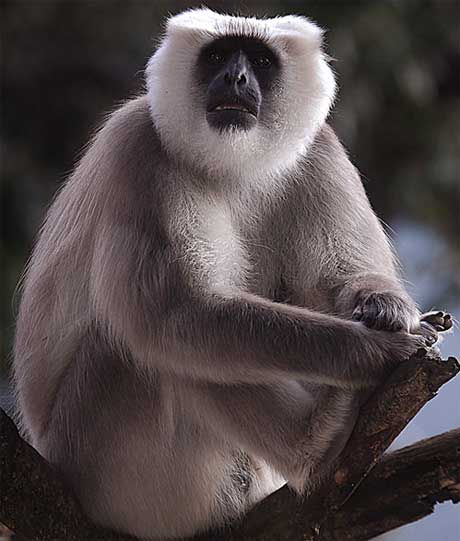monkey: (8, 6, 460, 530)
